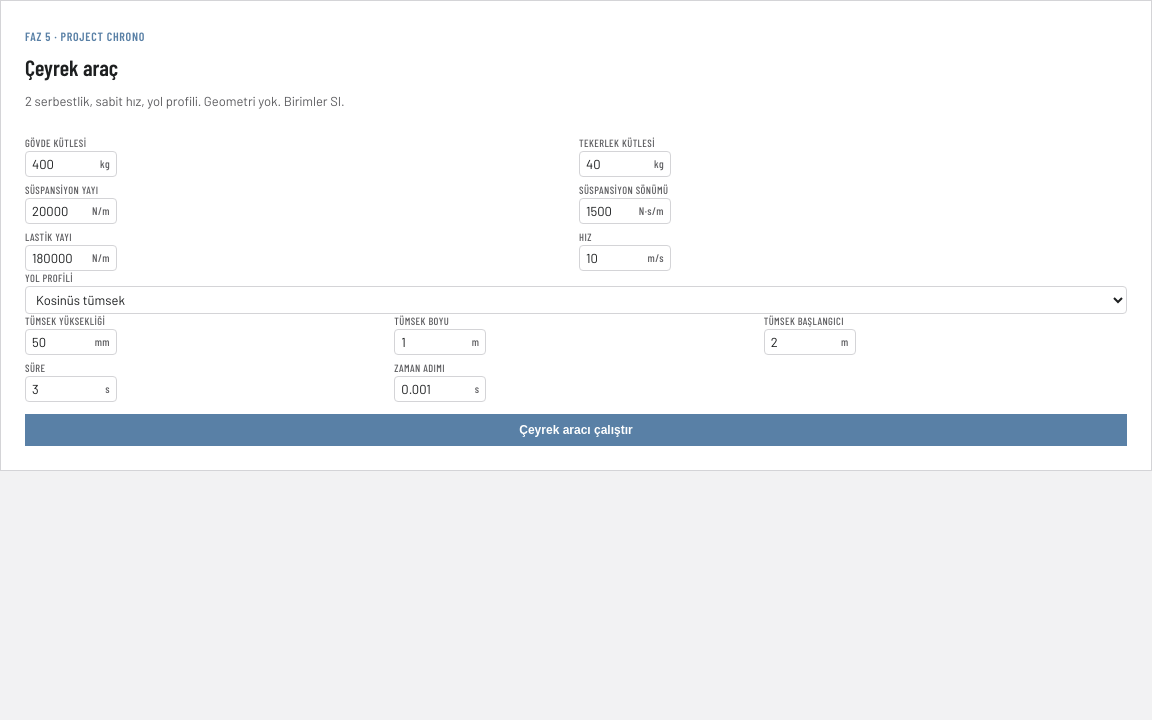
it: MbdPanel (MBD · çeyrek araç) › çözücü hatasını gösterir
What coordinates should you click on to do the following:
click the button "Çeyrek aracı çalıştır"
I would click on:
 (576, 430)
Its box is [25,414,1127,446].
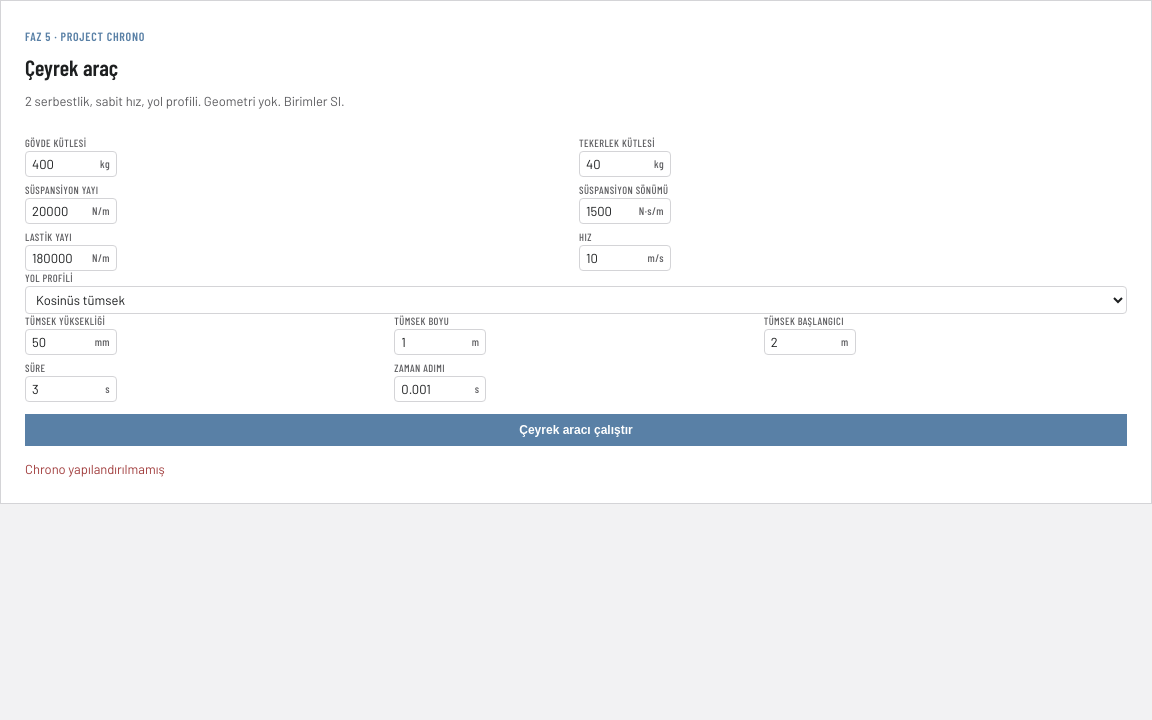
Now the message shows "yapılandırılmamış", box [25,461,165,477]
